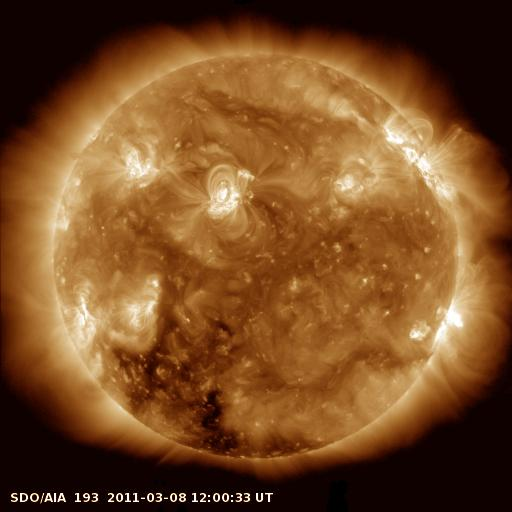coronal_hole: (122, 319, 242, 457)
